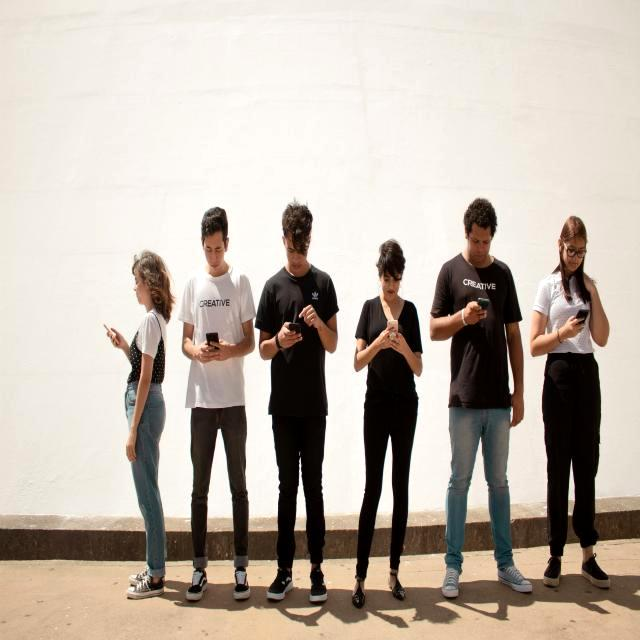no_head_wear: (132, 250, 169, 284), (464, 198, 497, 232), (282, 199, 313, 235), (376, 239, 405, 273), (201, 207, 229, 238), (561, 216, 586, 237)
person: (430, 198, 532, 599), (255, 200, 339, 604), (179, 207, 255, 601), (530, 216, 610, 589), (352, 240, 422, 609), (106, 250, 175, 599)
